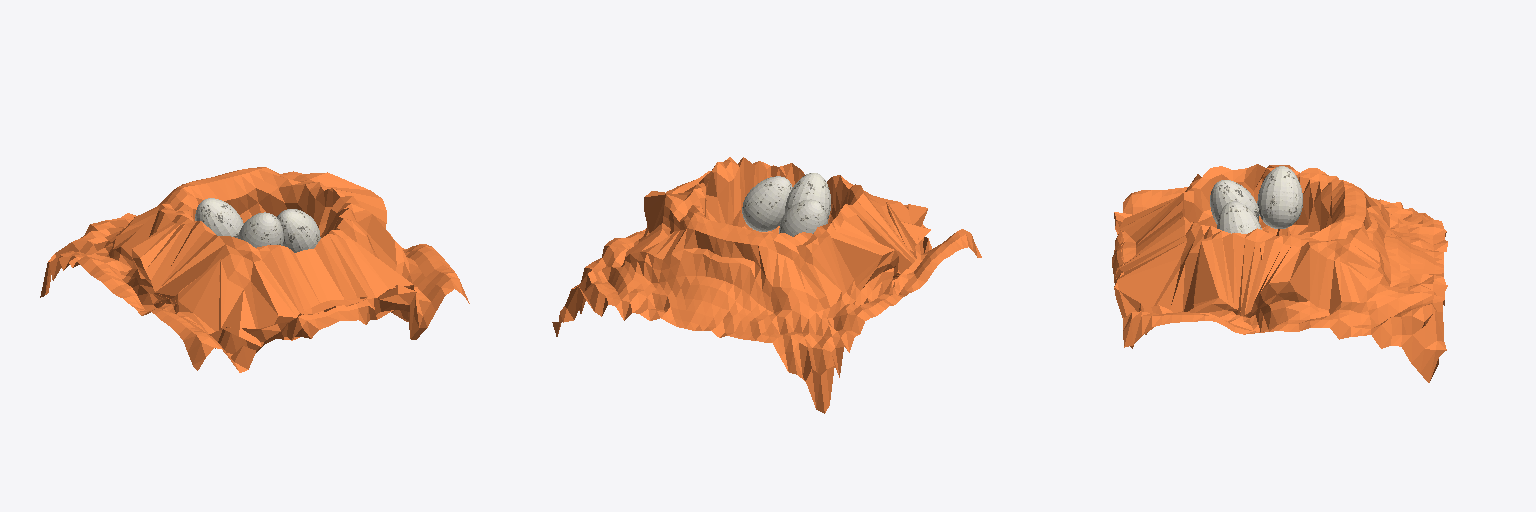
3 views of the same model, side by side, from view 1: azimuth 30°, elevation 25°; view 2: azimuth 150°, elevation 25°; view 3: azimuth 270°, elevation 25° (orthographic).
Parts seen in each view (by area): view 1: Plane, Dinosaur_Egg_Dinosaur_Egg_CTRL.002_Dinosaur_Egg_Dinosaur_Egg_CT, Dinosaur_Egg_Dinosaur_Egg_CTRL.001_Dinosaur_Egg_Dinosaur_Egg_CT, Dinosaur_Egg_Dinosaur_Egg_CTRL; view 2: Plane, Dinosaur_Egg_Dinosaur_Egg_CTRL.002_Dinosaur_Egg_Dinosaur_Egg_CT, Dinosaur_Egg_Dinosaur_Egg_CTRL.001_Dinosaur_Egg_Dinosaur_Egg_CT, Dinosaur_Egg_Dinosaur_Egg_CTRL; view 3: Plane, Dinosaur_Egg_Dinosaur_Egg_CTRL.001_Dinosaur_Egg_Dinosaur_Egg_CT, Dinosaur_Egg_Dinosaur_Egg_CTRL, Dinosaur_Egg_Dinosaur_Egg_CTRL.002_Dinosaur_Egg_Dinosaur_Egg_CT.
Part boxes in pixels (bbox=[...]): Plane: bbox=[40, 167, 469, 372]; Dinosaur_Egg_Dinosaur_Egg_CTRL.002_Dinosaur_Egg_Dinosaur_Egg_CT: bbox=[277, 209, 320, 252]; Dinosaur_Egg_Dinosaur_Egg_CTRL.001_Dinosaur_Egg_Dinosaur_Egg_CT: bbox=[195, 198, 243, 237]; Dinosaur_Egg_Dinosaur_Egg_CTRL: bbox=[238, 212, 283, 247]; Plane: bbox=[552, 157, 981, 413]; Dinosaur_Egg_Dinosaur_Egg_CTRL.002_Dinosaur_Egg_Dinosaur_Egg_CT: bbox=[742, 176, 792, 231]; Dinosaur_Egg_Dinosaur_Egg_CTRL.001_Dinosaur_Egg_Dinosaur_Egg_CT: bbox=[779, 199, 827, 236]; Dinosaur_Egg_Dinosaur_Egg_CTRL: bbox=[785, 173, 830, 218]; Plane: bbox=[1112, 164, 1447, 382]; Dinosaur_Egg_Dinosaur_Egg_CTRL.001_Dinosaur_Egg_Dinosaur_Egg_CT: bbox=[1257, 166, 1302, 228]; Dinosaur_Egg_Dinosaur_Egg_CTRL: bbox=[1210, 180, 1259, 223]; Dinosaur_Egg_Dinosaur_Egg_CTRL.002_Dinosaur_Egg_Dinosaur_Egg_CT: bbox=[1217, 201, 1261, 233].
Bounding box in the file's own units: 2.91 × 1.34 × 3.06.
Materials: 2 (1 with a texture image).